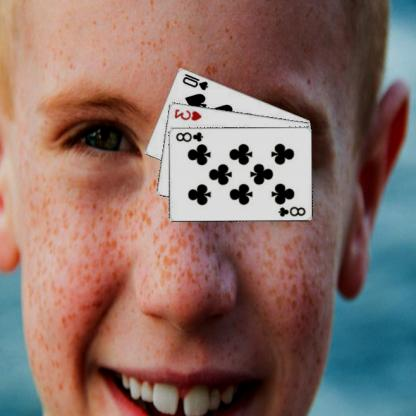10S: (182, 71, 211, 91)
3H: (173, 107, 204, 122)
8C: (175, 129, 206, 143), (278, 204, 309, 218)
